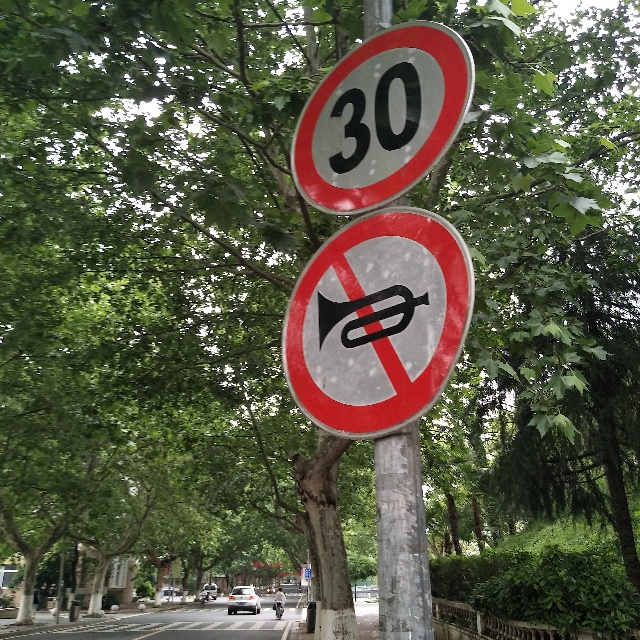nohonk: (300, 237, 445, 411)
